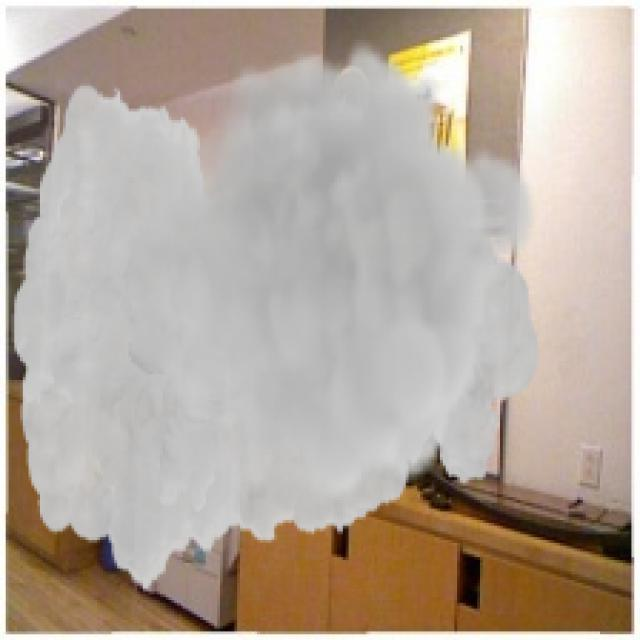Smoke: (11, 39, 540, 594)
